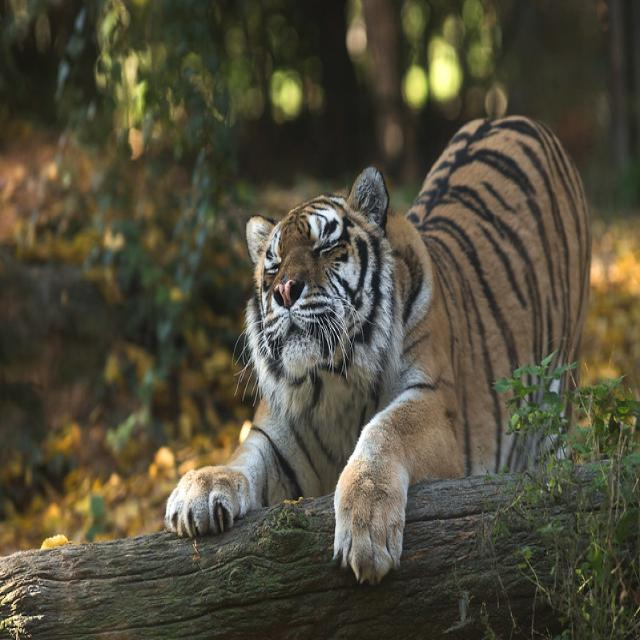Tiger: (180, 102, 597, 569)
